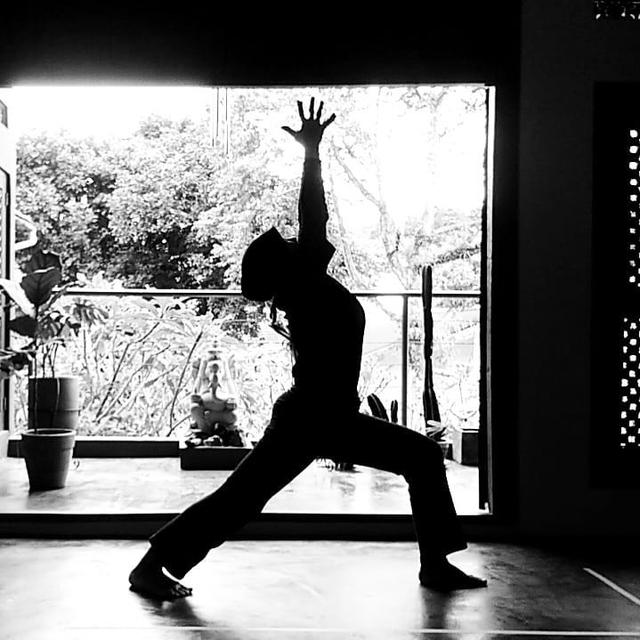Warrior_I: (118, 93, 506, 608)
